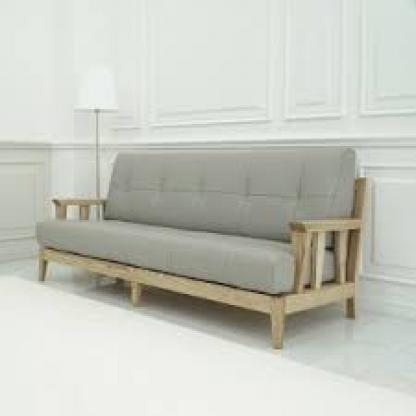sofa: (44, 146, 364, 340)
